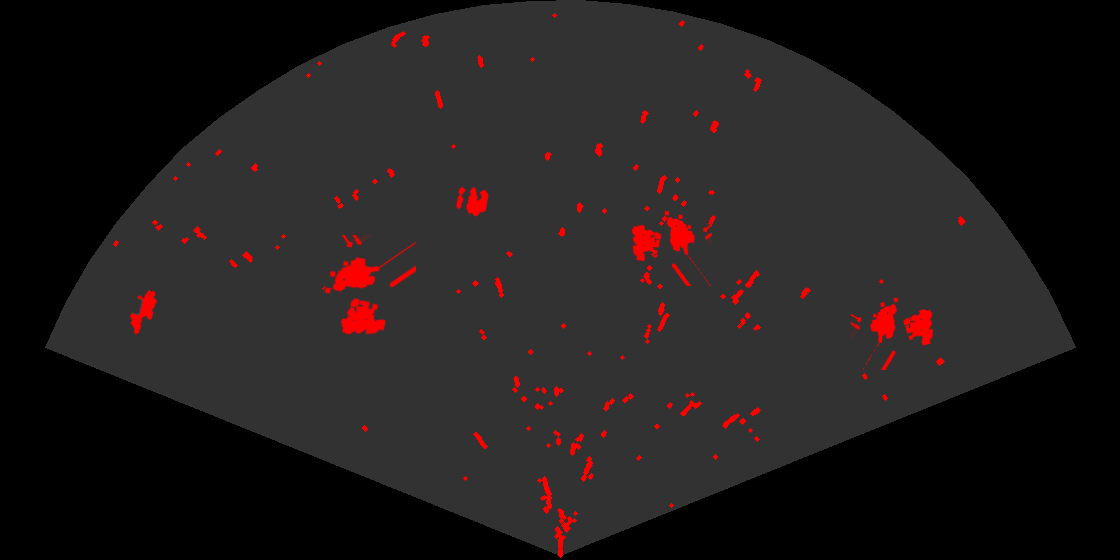AUV: (128, 288, 158, 336)
ball: (455, 185, 490, 218)
cage: (323, 235, 416, 337), (630, 209, 712, 286), (851, 296, 935, 370)
